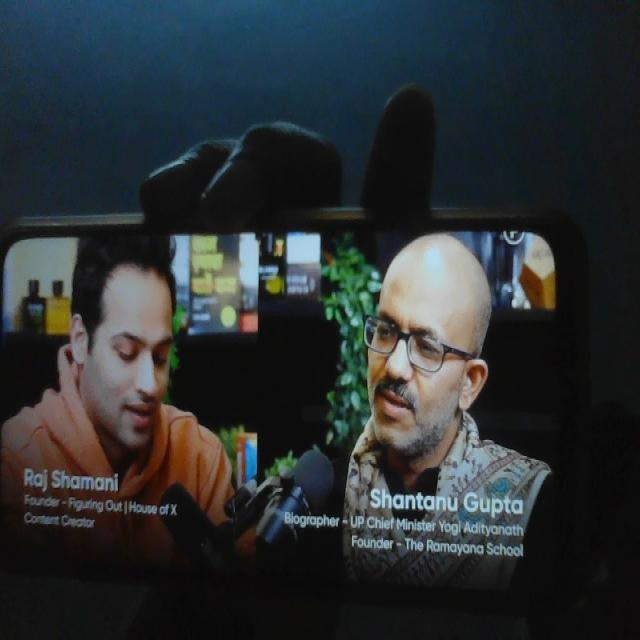fake: (350, 202, 488, 462), (61, 223, 184, 456)
